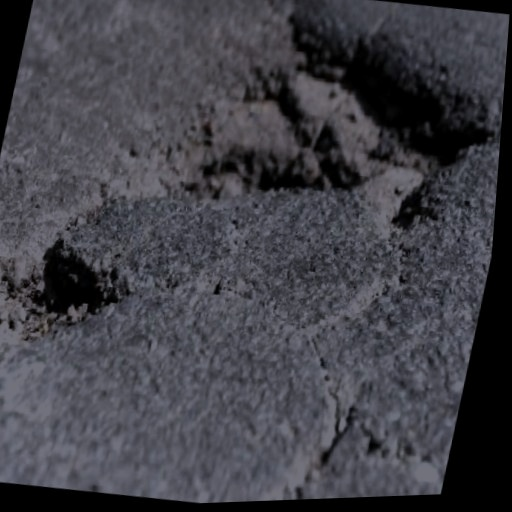pothole: (132, 0, 512, 261), (0, 213, 142, 384)
